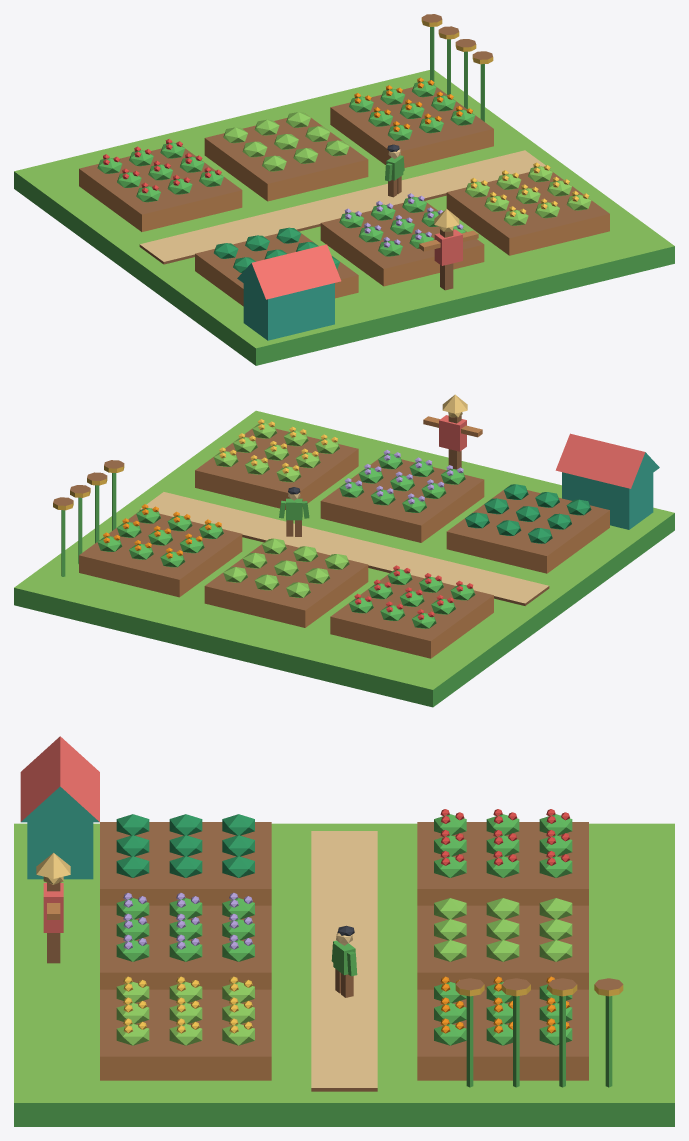
The model's file is park_community_garden.glb.
The picture shows the model from 3 angles, top to bottom: view 1: azimuth 30°, elevation 25°; view 2: azimuth 150°, elevation 25°; view 3: azimuth 270°, elevation 25°; orthographic projection. The views are drawn at different scales.
Visible parts, largest first — view 1: park_community_garden; view 2: park_community_garden; view 3: park_community_garden.
Part boxes in pixels (box(x1,y1,x2,y2)): park_community_garden: box(14, 14, 674, 365); park_community_garden: box(14, 394, 674, 707); park_community_garden: box(14, 736, 674, 1126).
Size of the model in its own units: 1 by 0.22 by 1.
